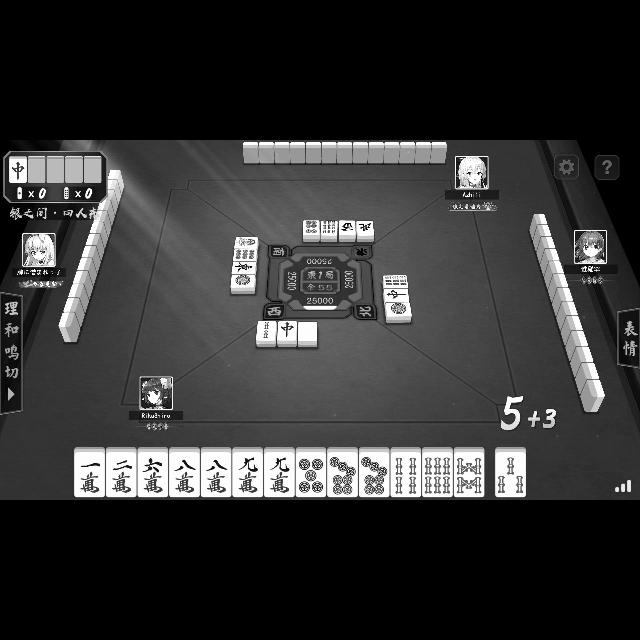1m: (74, 447, 105, 497)
1p: (230, 275, 256, 293), (385, 304, 411, 322)
1s: (234, 236, 258, 248)
2m: (105, 447, 136, 497)
2s: (258, 321, 276, 347)
3s: (496, 447, 526, 497)
4s: (390, 448, 422, 497)
5p: (296, 447, 326, 498)
6m: (138, 448, 168, 498)
6p: (302, 220, 320, 242)
6s: (423, 447, 453, 497)
7p: (328, 447, 358, 497), (359, 448, 389, 498)
8m: (200, 448, 232, 498), (170, 447, 200, 497)
8s: (454, 447, 484, 497)
9m: (233, 447, 263, 497), (265, 447, 295, 497)
9p: (234, 250, 256, 260)
9s: (321, 220, 337, 242), (382, 276, 410, 288)
chun: (278, 322, 296, 346), (10, 157, 26, 183), (382, 288, 410, 302)
haku: (299, 322, 317, 346)
pe: (356, 220, 374, 242)
sha: (338, 220, 356, 242)
tou: (232, 262, 255, 274)
